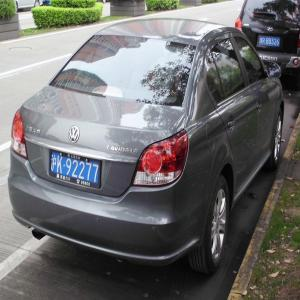Vehicle-registration-plate: (49, 150, 102, 189), (260, 37, 281, 48)
